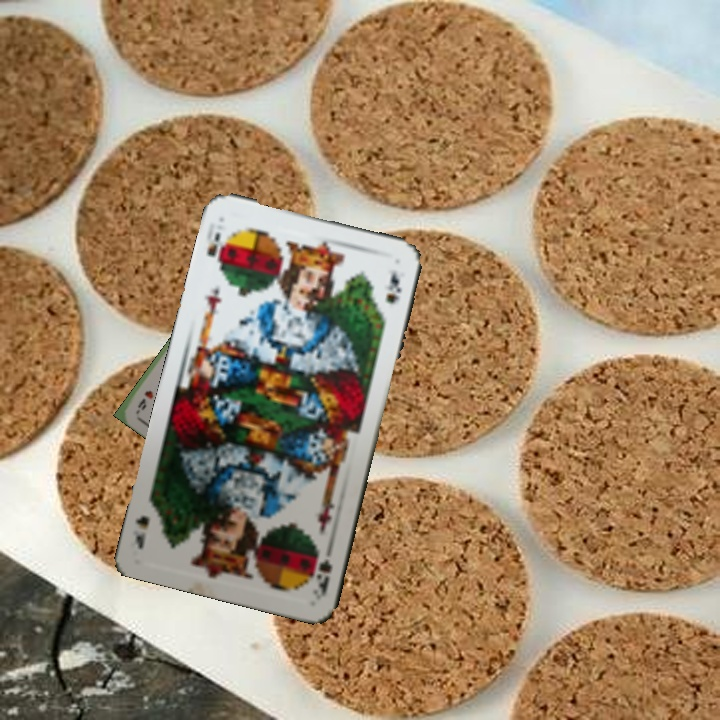SK: (308, 540, 336, 600), (202, 228, 232, 273)
